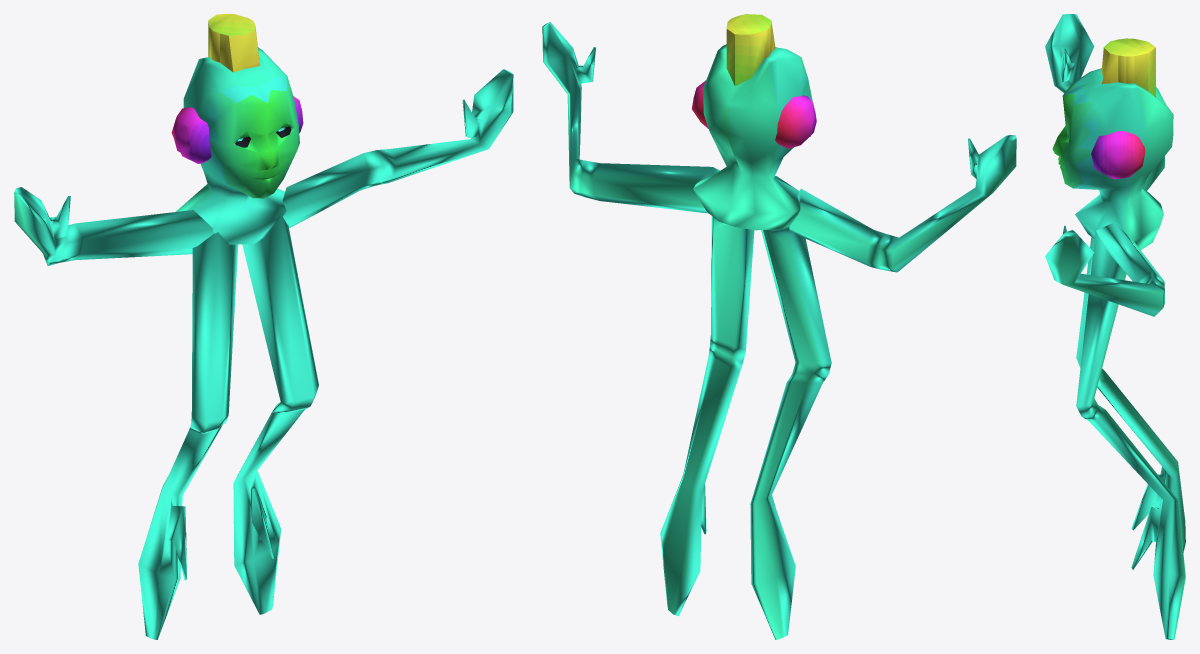
Rendered from FinalBossHead.fbx.
3 views of the same model, side by side, from view 1: azimuth 30°, elevation 25°; view 2: azimuth 150°, elevation 25°; view 3: azimuth 270°, elevation 25° (orthographic). The views are drawn at different scales.
Visible parts, largest first — view 1: main.003; view 2: main.003; view 3: main.003.
Boxes of the visible parts, x1=… form: main.003: x1=14, y1=14, x2=513, y2=639; main.003: x1=542, y1=14, x2=1016, y2=639; main.003: x1=1045, y1=14, x2=1185, y2=639.
Size of the model in its own units: 44527 by 53084 by 11894.
